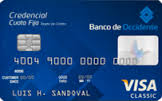tarjeta: (1, 1, 162, 101)
